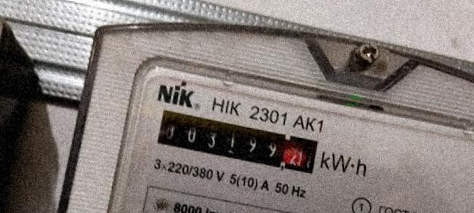0: (162, 120, 177, 140), (185, 123, 198, 143)
1: (227, 129, 237, 148)
3: (205, 129, 216, 149)
6: (287, 151, 298, 168)
9: (246, 134, 257, 153), (266, 140, 277, 159)
screen: (149, 104, 327, 182)
